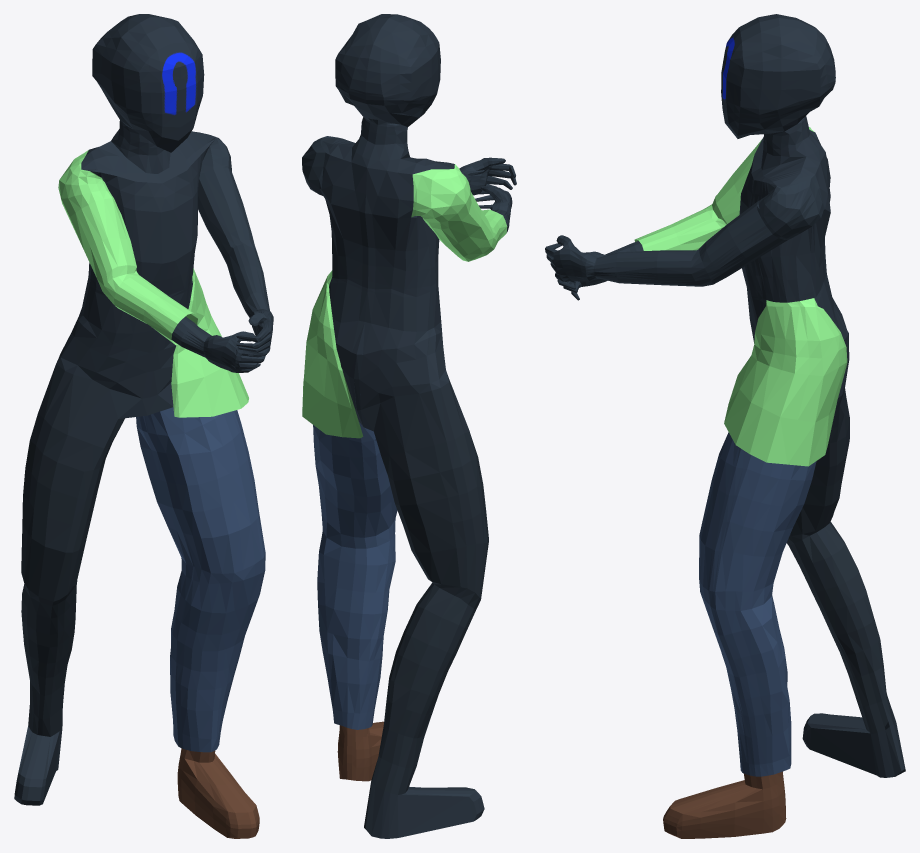
File: Mar_WF_000011.obj
The picture shows the model from 3 angles, left to right: view 1: azimuth 30°, elevation 25°; view 2: azimuth 150°, elevation 25°; view 3: azimuth 270°, elevation 25°; orthographic projection.
Parts seen in each view (by area): view 1: Cube.000_Cube.001; view 2: Cube.000_Cube.001; view 3: Cube.000_Cube.001.
Boxes of the visible parts, x1,y1,x2,y2 form: Cube.000_Cube.001: (14, 14, 273, 838); Cube.000_Cube.001: (302, 14, 516, 838); Cube.000_Cube.001: (545, 14, 905, 838).
Bounding box in the file's own units: 1.06 × 3.88 × 1.6.
